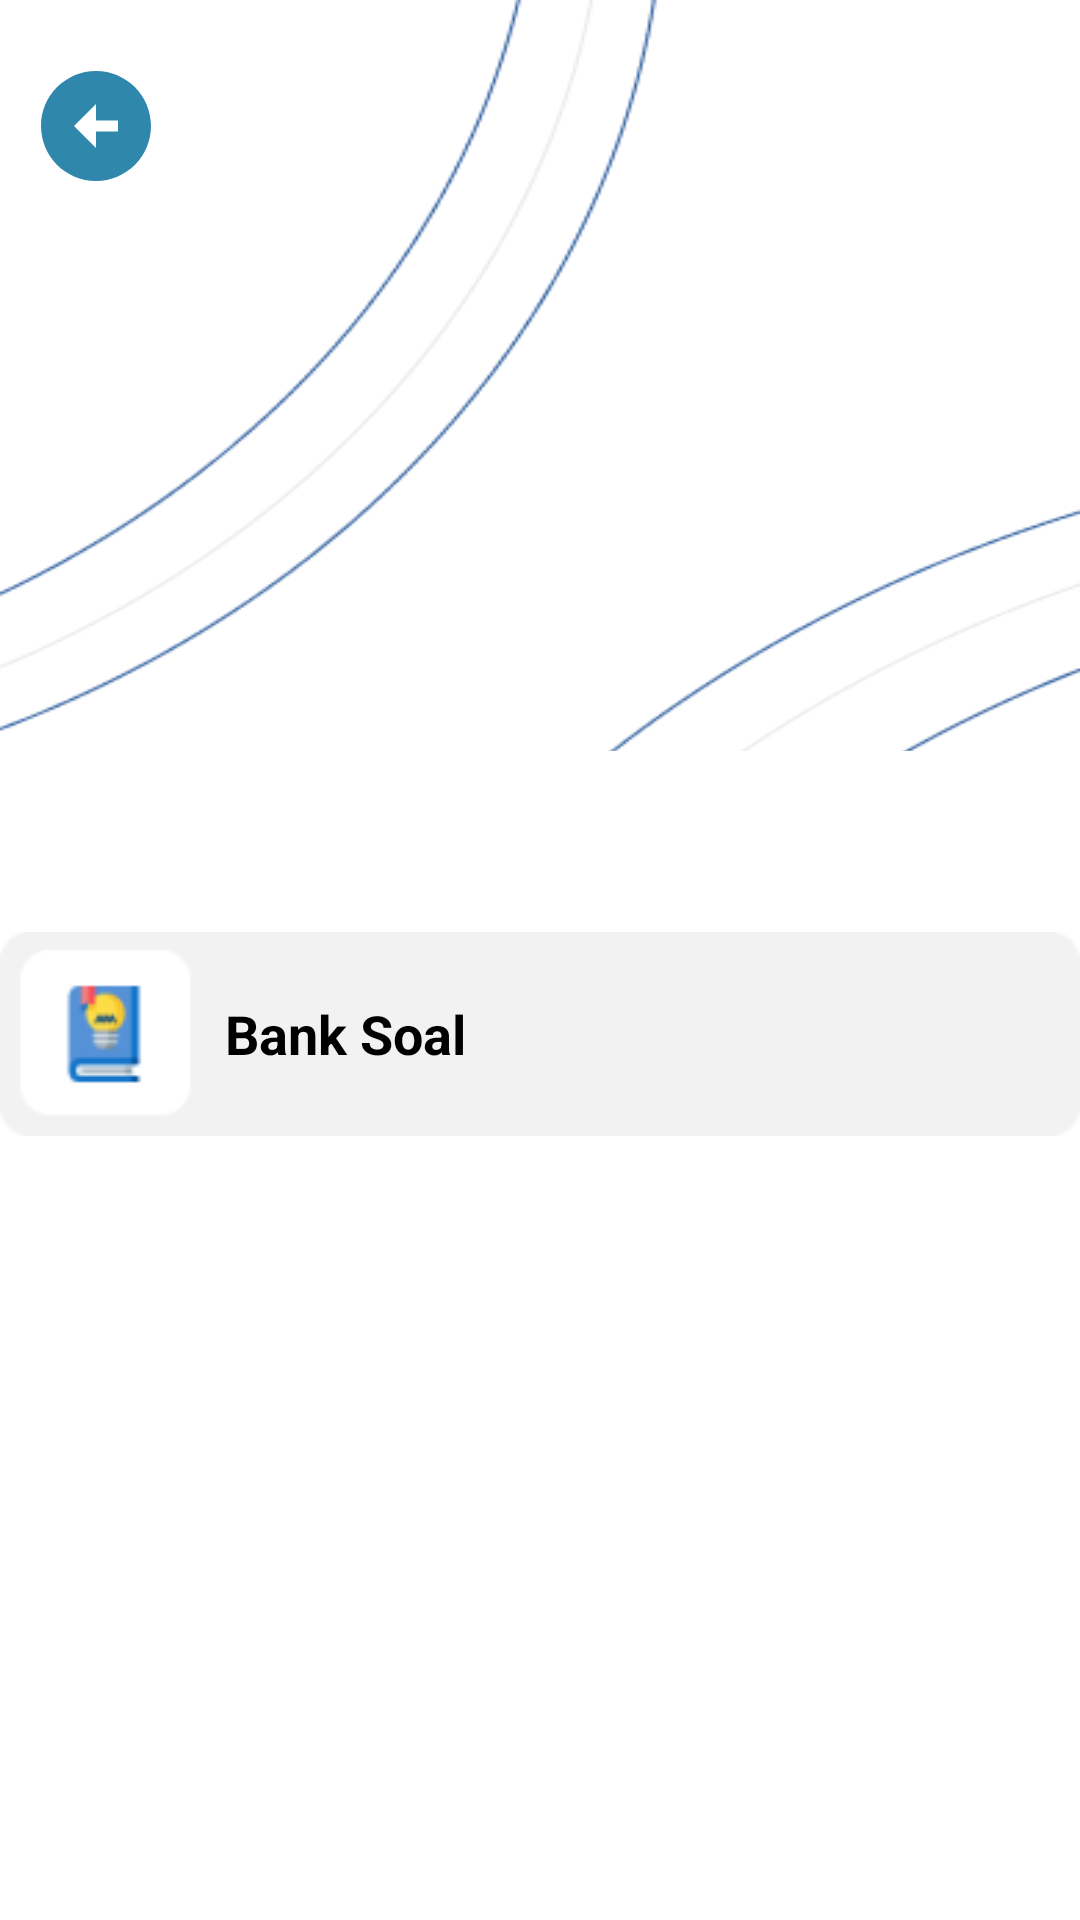

Where to tap for icons on this 1080px x 1920px app screen, as (x,y):
arrow back: (96,126)
